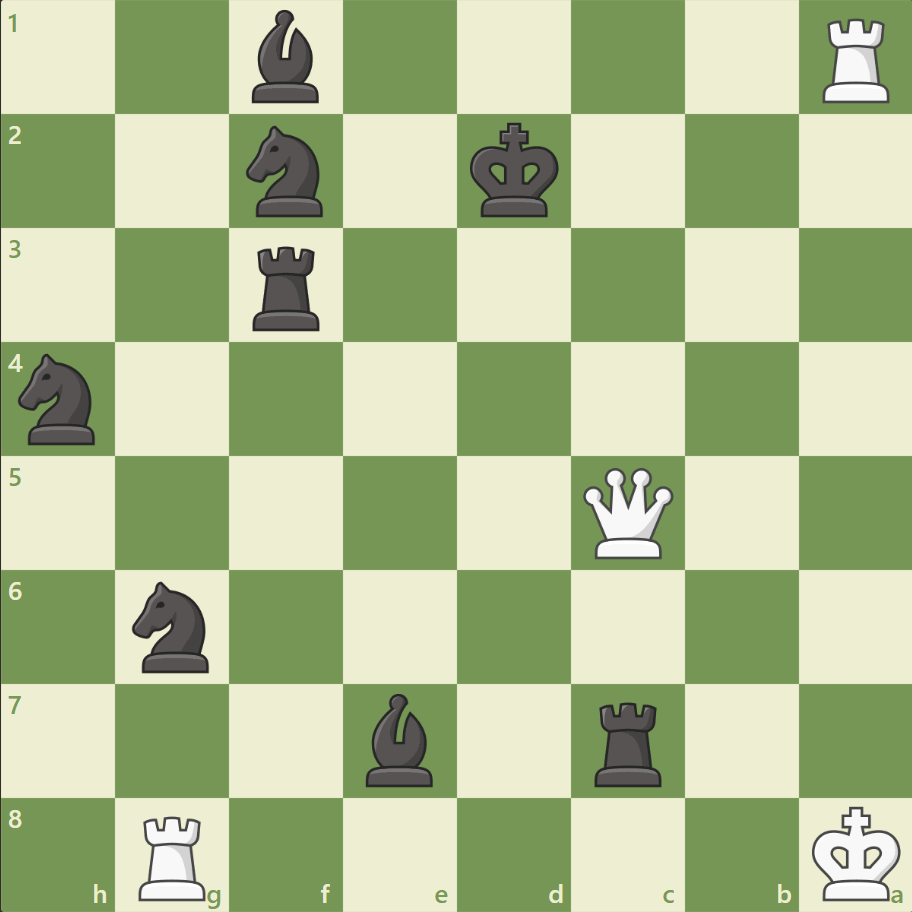K: (806, 798, 906, 906)
Q: (578, 463, 677, 562)
R: (814, 12, 897, 109), (133, 806, 215, 904)
b: (358, 687, 442, 790), (244, 6, 328, 109)
k: (465, 117, 565, 225)
n: (124, 575, 222, 677), (11, 348, 108, 450), (238, 121, 335, 223)
r: (587, 693, 670, 790), (246, 239, 329, 336)
